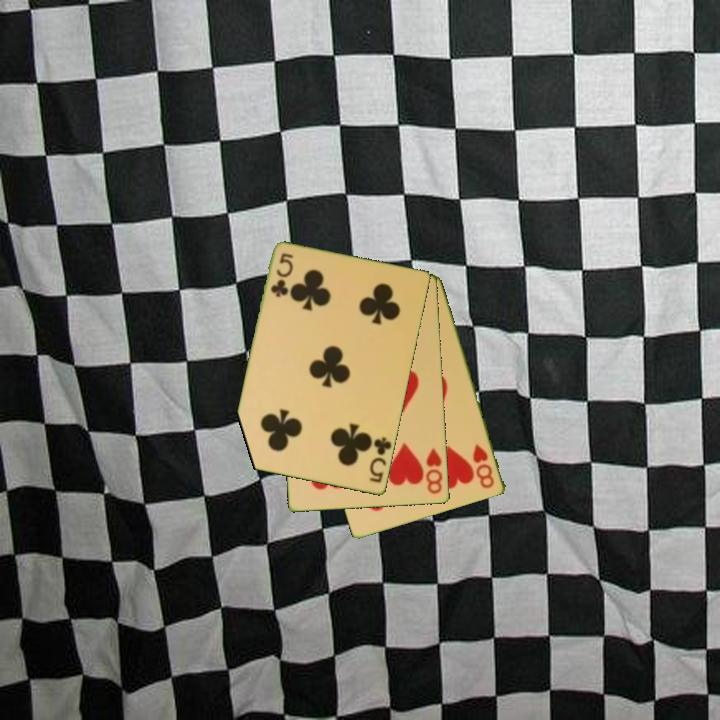5c: (267, 250, 297, 301), (366, 434, 394, 486)
8h: (469, 441, 497, 492), (423, 445, 446, 497)
